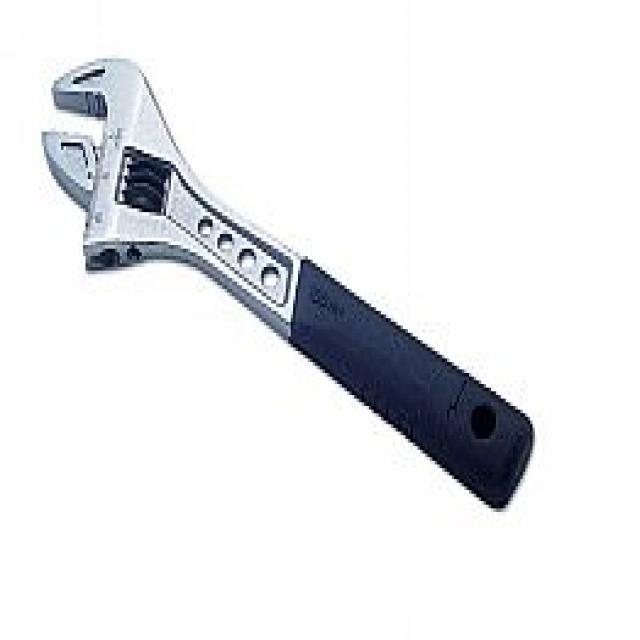wrench: (36, 48, 542, 526)
